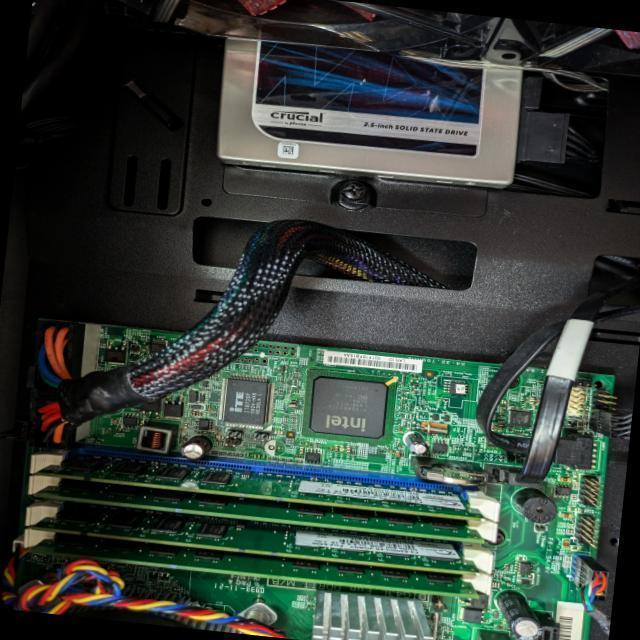CPU_Fan: (36, 576, 287, 638)
DISK: (210, 36, 523, 196), (30, 500, 482, 578), (37, 450, 484, 522), (26, 532, 479, 600), (32, 476, 482, 544)
Mainboard: (4, 314, 618, 640)
